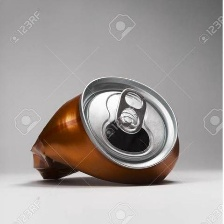can: (28, 75, 182, 188)
